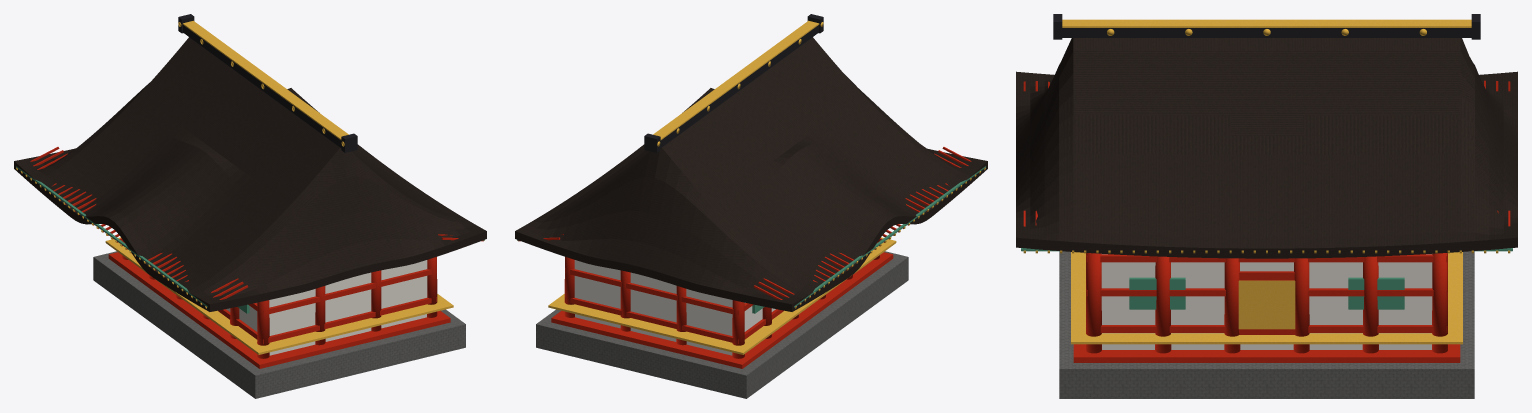
File: Asset_08_Honden_1499_Sanctuary.glb
The picture shows the model from 3 angles, left to right: view 1: azimuth 30°, elevation 25°; view 2: azimuth 150°, elevation 25°; view 3: azimuth 270°, elevation 25°; orthographic projection. The views are drawn at different scales.
Visible parts, largest first — view 1: Z03_Honden_Roof, Z03_Honden_Podium, Z03_Honden_Core_Shikku, Z03_Honden_Verandah, Z03_Honden_Verandah_Gold, Z03_Honden_Roof_Ridge_Gold_Cap, Z03_Honden_Beam_2.20, Z03_Honden_Roof_Ridge_Beam, Z03_Honden_Beam_3.60, Z03_Honden_Roof_Copper_Gutter_-7.9, Z03_Honden_Col_29.7_-6.0, Z03_Honden_Col_35.4_-6.0 (+2 smaller); view 2: Z03_Honden_Roof, Z03_Honden_Podium, Z03_Honden_Core_Shikku, Z03_Honden_Verandah, Z03_Honden_Verandah_Gold, Z03_Honden_Roof_Ridge_Gold_Cap, Z03_Honden_Beam_2.20, Z03_Honden_Roof_Ridge_Beam, Z03_Honden_Beam_3.60, Z03_Honden_Roof_Copper_Gutter_-7.9, Z03_Honden_Col_29.7_6.0, Z03_Honden_Col_35.4_6.0 (+2 smaller); view 3: Z03_Honden_Roof, Z03_Honden_Podium, Z03_Honden_Core_Shikku, Z03_Honden_Verandah_Gold, Z03_Honden_Verandah, Z03_Honden_Roof_Ridge_Beam, Z03_Honden_Roof_Ridge_Gold_Cap, Z03_Honden_GoldDoorFittings, Z03_Honden_Beam_2.20, Z03_Honden_Beam_3.60, Z03_Honden_Beam_4.90, Z03_Honden_Col_38.3_6.0 (+8 smaller).
Part boxes in pixels (x1,y1,x2,y2): Z03_Honden_Roof: [14, 37, 486, 311]; Z03_Honden_Podium: [93, 251, 465, 398]; Z03_Honden_Core_Shikku: [226, 260, 427, 355]; Z03_Honden_Verandah: [108, 252, 450, 368]; Z03_Honden_Verandah_Gold: [105, 237, 453, 354]; Z03_Honden_Roof_Ridge_Gold_Cap: [182, 20, 348, 140]; Z03_Honden_Beam_2.20: [218, 297, 436, 344]; Z03_Honden_Roof_Ridge_Beam: [183, 25, 341, 147]; Z03_Honden_Beam_3.60: [248, 268, 436, 315]; Z03_Honden_Roof_Copper_Gutter_-7.9: [16, 166, 207, 307]; Z03_Honden_Col_29.7_-6.0: [257, 300, 269, 358]; Z03_Honden_Col_35.4_-6.0: [371, 270, 381, 331]; Z03_Honden_Roof: [515, 37, 987, 311]; Z03_Honden_Podium: [536, 251, 908, 398]; Z03_Honden_Core_Shikku: [574, 260, 775, 355]; Z03_Honden_Verandah: [551, 252, 893, 368]; Z03_Honden_Verandah_Gold: [548, 237, 896, 354]; Z03_Honden_Roof_Ridge_Gold_Cap: [653, 20, 819, 140]; Z03_Honden_Beam_2.20: [565, 297, 783, 344]; Z03_Honden_Roof_Ridge_Beam: [660, 25, 818, 147]; Z03_Honden_Beam_3.60: [565, 268, 753, 315]; Z03_Honden_Roof_Copper_Gutter_-7.9: [794, 166, 985, 307]; Z03_Honden_Col_29.7_6.0: [732, 300, 744, 358]; Z03_Honden_Col_35.4_6.0: [620, 270, 630, 331]; Z03_Honden_Roof: [1016, 38, 1517, 258]; Z03_Honden_Podium: [1059, 251, 1474, 398]; Z03_Honden_Core_Shikku: [1101, 254, 1432, 349]; Z03_Honden_Verandah_Gold: [1071, 252, 1462, 344]; Z03_Honden_Verandah: [1073, 344, 1460, 362]; Z03_Honden_Roof_Ridge_Beam: [1062, 28, 1471, 37]; Z03_Honden_Roof_Ridge_Gold_Cap: [1062, 19, 1471, 27]; Z03_Honden_GoldDoorFittings: [1238, 280, 1295, 329]; Z03_Honden_Beam_2.20: [1086, 325, 1447, 332]; Z03_Honden_Beam_3.60: [1086, 288, 1447, 296]; Z03_Honden_Beam_4.90: [1086, 254, 1447, 262]; Z03_Honden_Col_38.3_6.0: [1432, 253, 1447, 353].
Size of the model in its own units: 14.32 by 11.78 by 17.4.
7 materials, 4 textured.
